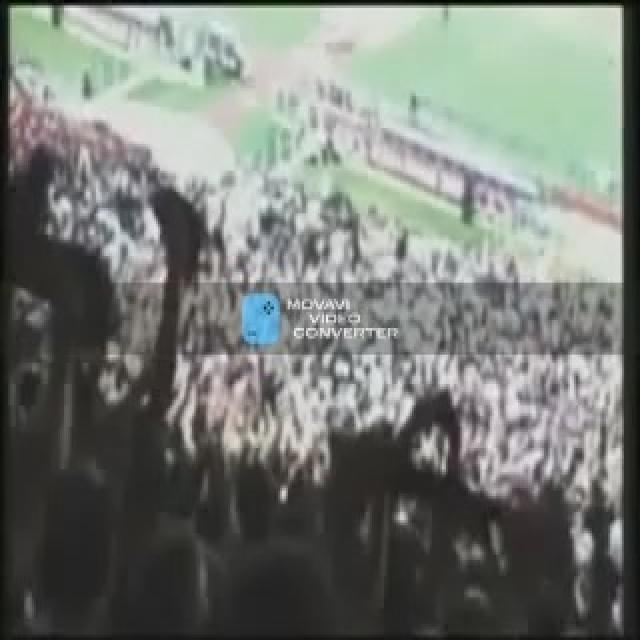non-voilence: (2, 16, 626, 635)
